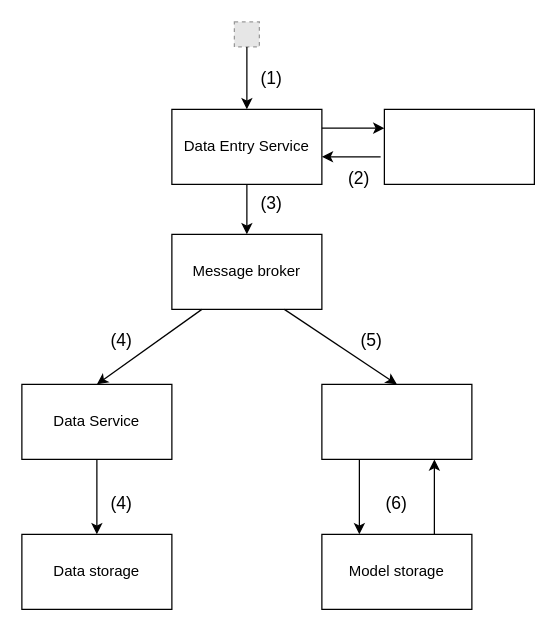
Some shapes in this 556 by 631 pixel diagram are drawn without their labels. Grey dashed boxes stand in for pictures. The shapes that lost their labels are listed below. From the top down, each one's centre as x and y in pixels, then its label:
At (x=458, y=146): "Schema Service".
At (x=396, y=421): "Prediction Service".
